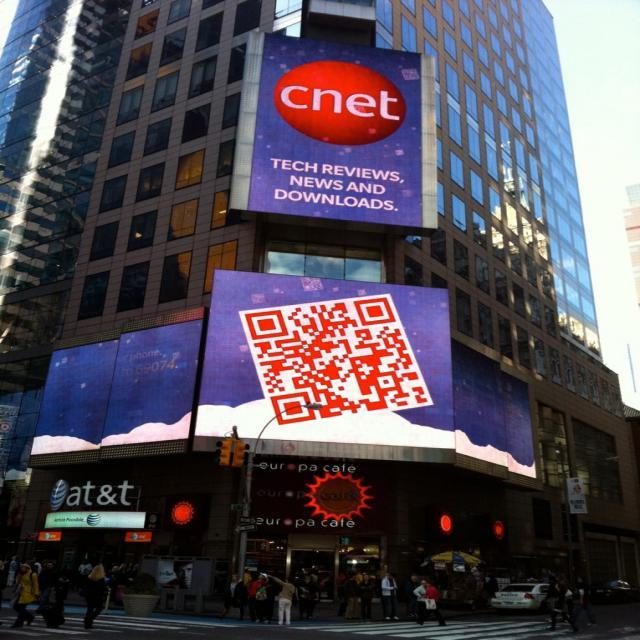qrcode: (246, 298, 429, 426)
